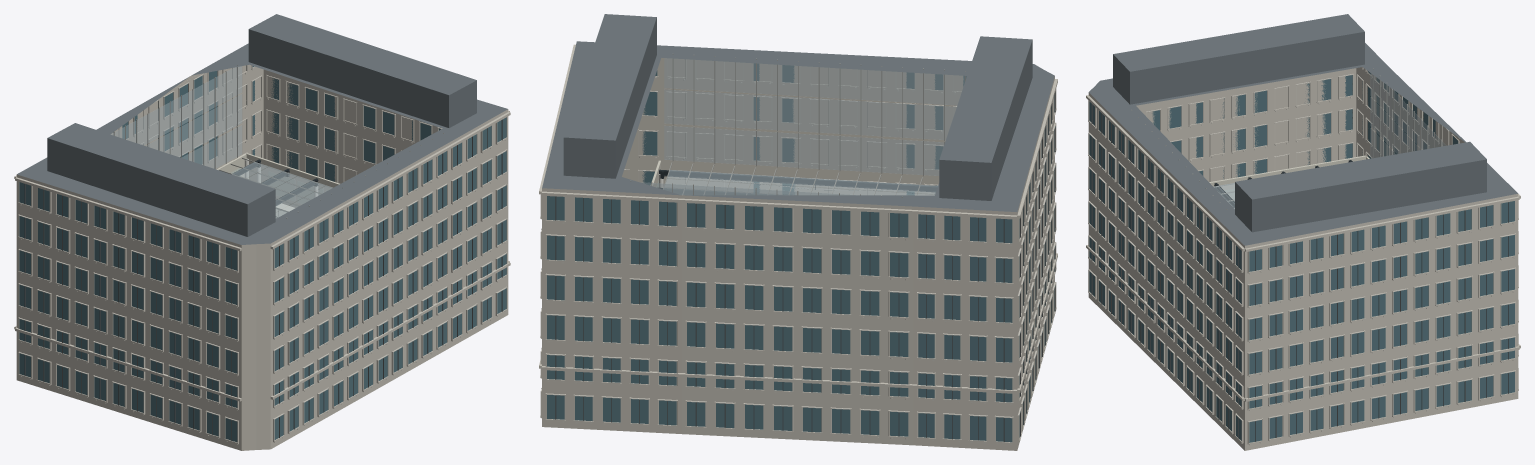
File: ckk-exterior-bcea3e812739.glb
The picture shows the model from 3 angles, left to right: view 1: azimuth 30°, elevation 25°; view 2: azimuth 150°, elevation 25°; view 3: azimuth 270°, elevation 25°; orthographic projection. The views are drawn at different scales.
Parts seen in each view (by area): view 1: CKK.001; view 2: CKK.001; view 3: CKK.001.
Boxes of the visible parts, box(x1,y1,x2,y2) form: CKK.001: box(14, 14, 510, 450); CKK.001: box(539, 14, 1057, 450); CKK.001: box(1086, 14, 1520, 450).
Size of the model in its own units: 55.91 by 29.15 by 48.02.
